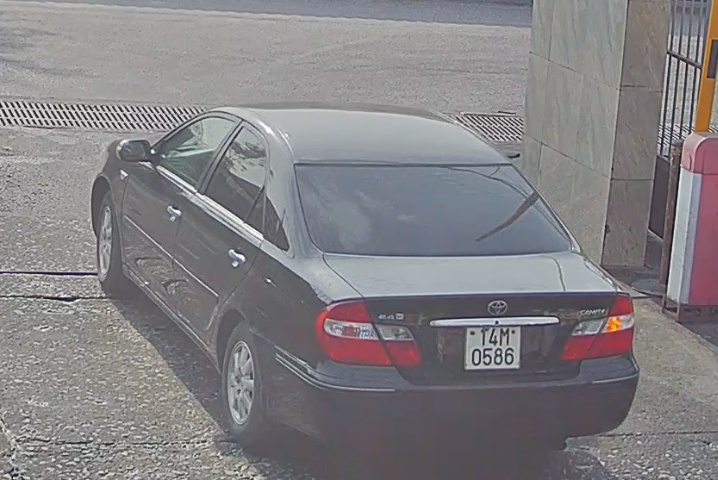vehicle plate: (453, 321, 533, 376)
